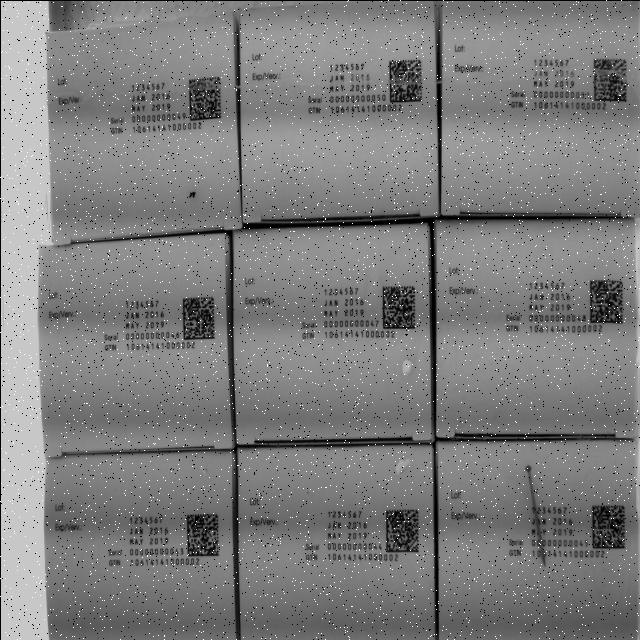datamatrix: (184, 73, 221, 121), (179, 293, 216, 341), (590, 502, 627, 550), (388, 56, 425, 103), (591, 55, 628, 102), (183, 511, 220, 558), (379, 282, 415, 329), (587, 278, 623, 325), (384, 506, 420, 553)
